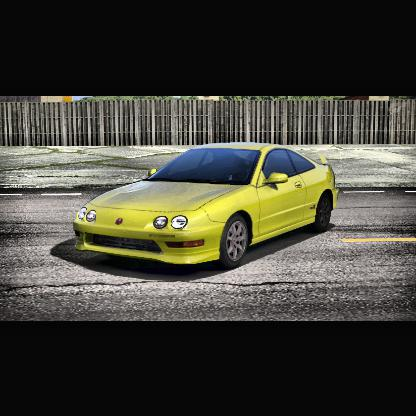Acura Integra Type R 2001: (73, 141, 341, 271)
